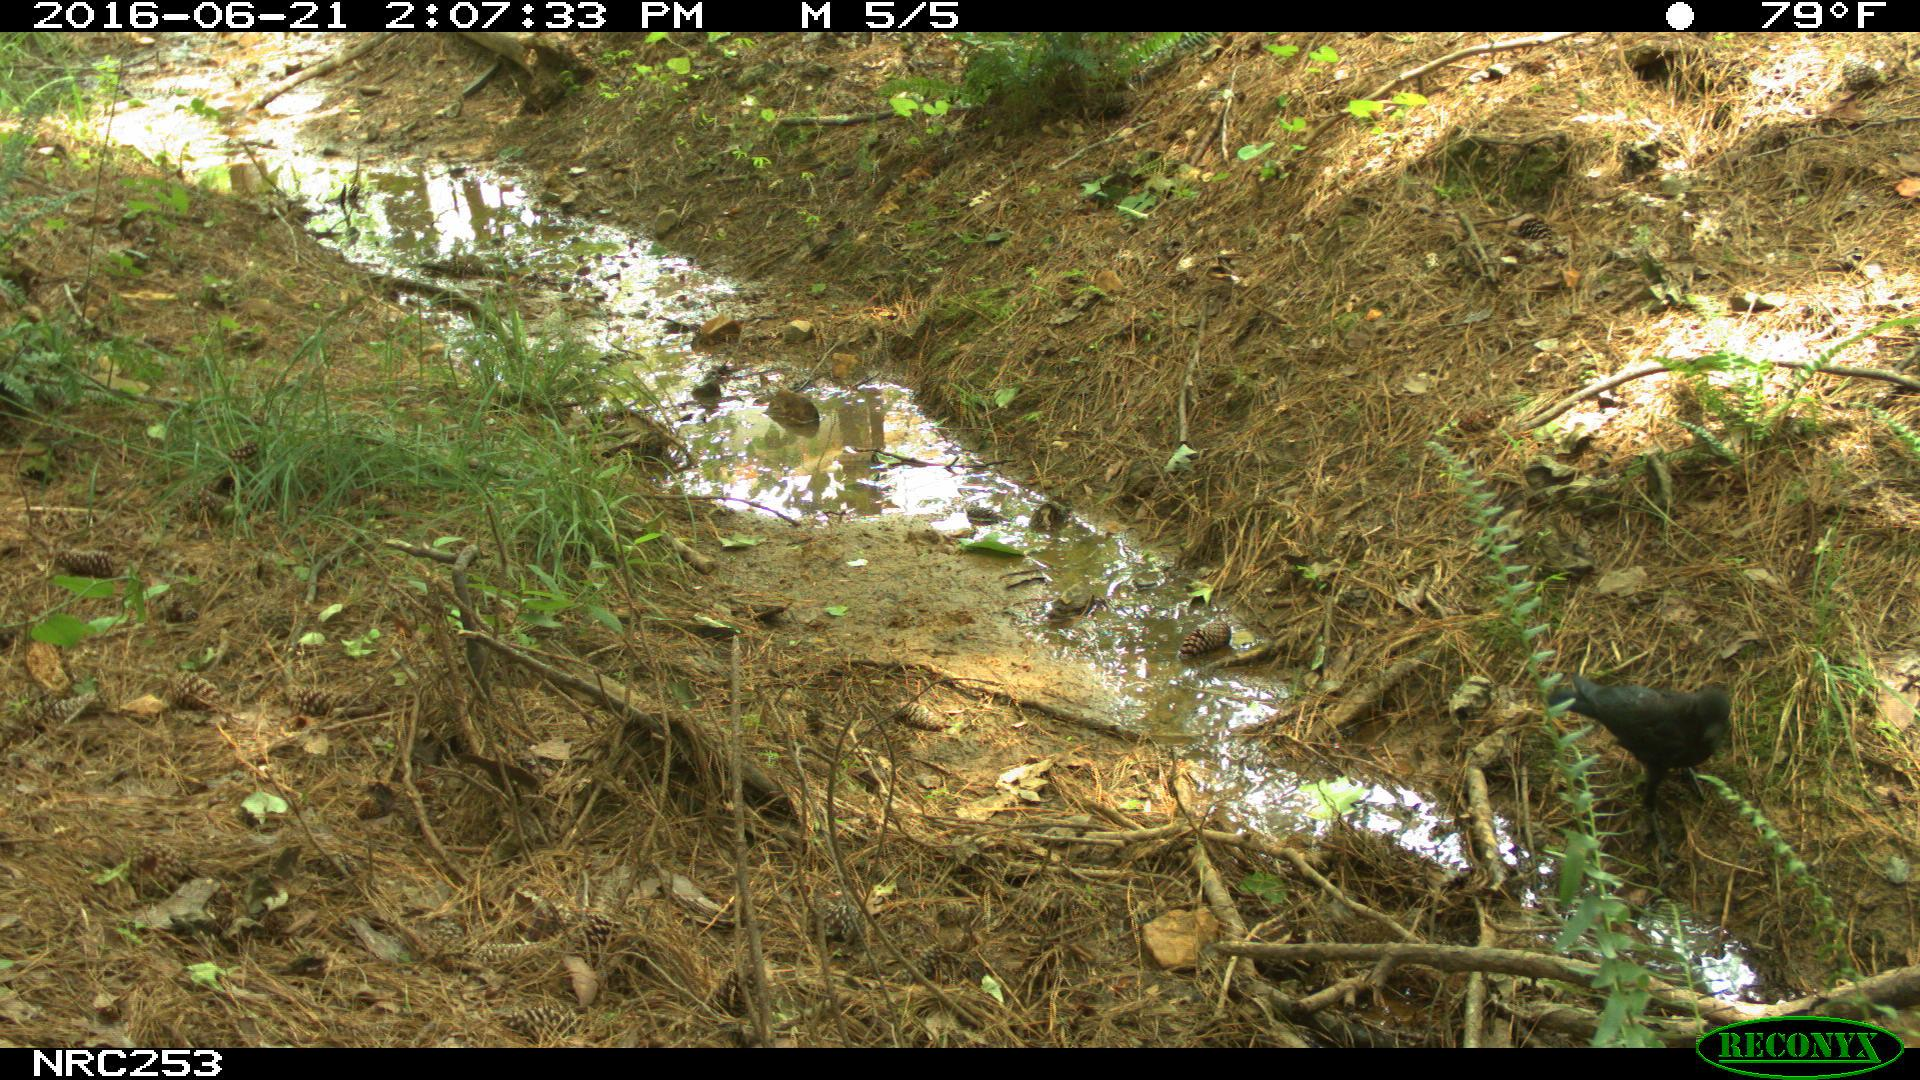Animal: (1552, 680, 1734, 804)
